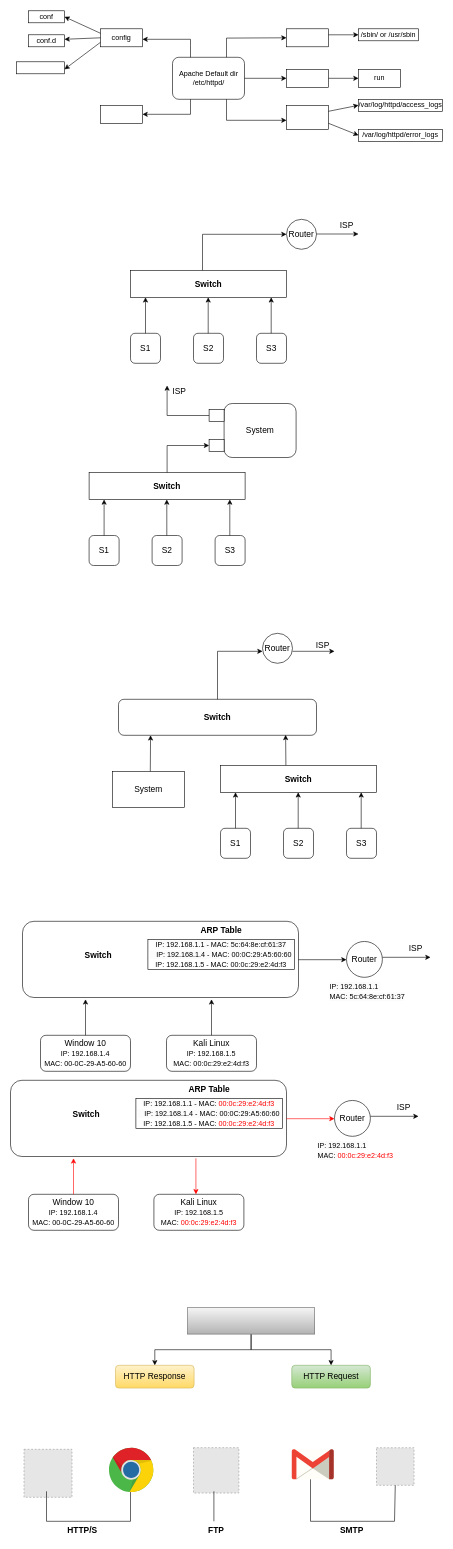
This 453x1549 diagram has some shape labels left out. Grey dashed boxes stand in for pictures. The shapes that lost their labels are listed below. From the top down, each one's centre as x and y in pixels, then its label:
At [307,37]: "binaries".
At [40,67]: "conf.moduel.d".
At [307,78]: "process ID".
At [121,114]: "modules".
At [307,117]: "logs".
At [216,415]: "eth0".
At [216,445]: "eth1".
At [251,1320]: "HTTP Messages".
